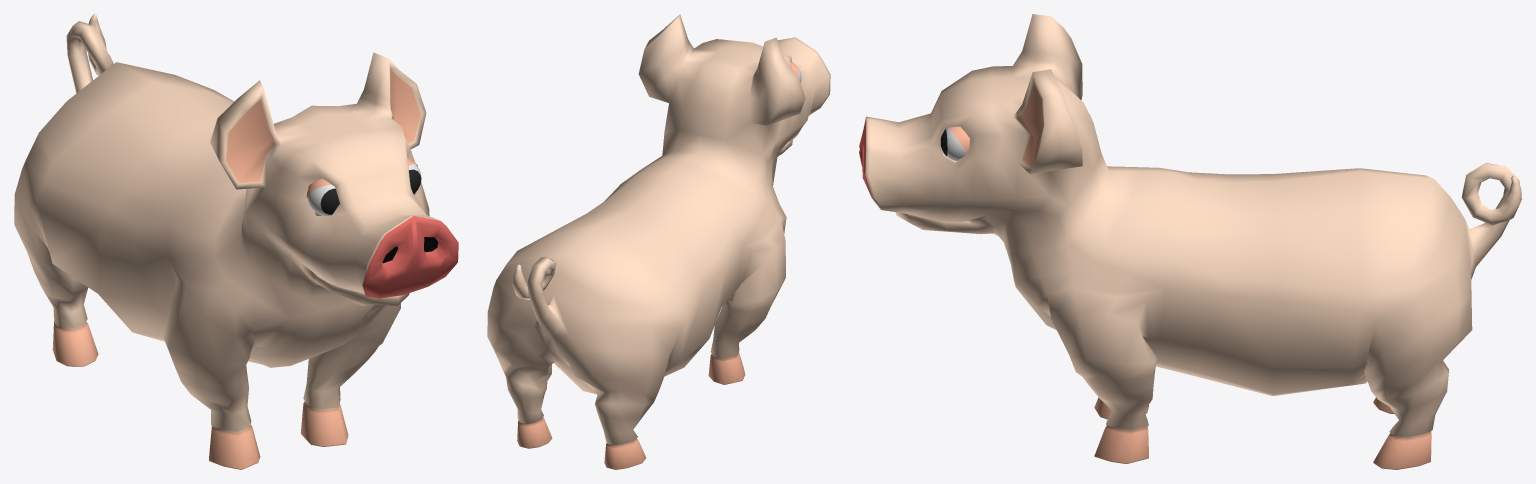
The model's file is piggy.fbx.
3 renders of one model, left to right at view 1: azimuth 30°, elevation 25°; view 2: azimuth 150°, elevation 25°; view 3: azimuth 270°, elevation 25°, orthographic. The views are drawn at different scales.
Parts seen in each view (by area): view 1: Cube, Sphere; view 2: Cube; view 3: Cube.
Part boxes in pixels (x1=…): Cube: x1=14, y1=14, x2=458, y2=469; Sphere: x1=307, y1=164, x2=421, y2=215; Cube: x1=487, y1=14, x2=830, y2=469; Cube: x1=859, y1=14, x2=1521, y2=469.
Size of the model in its own units: 8.13 by 13.33 by 20.5.
